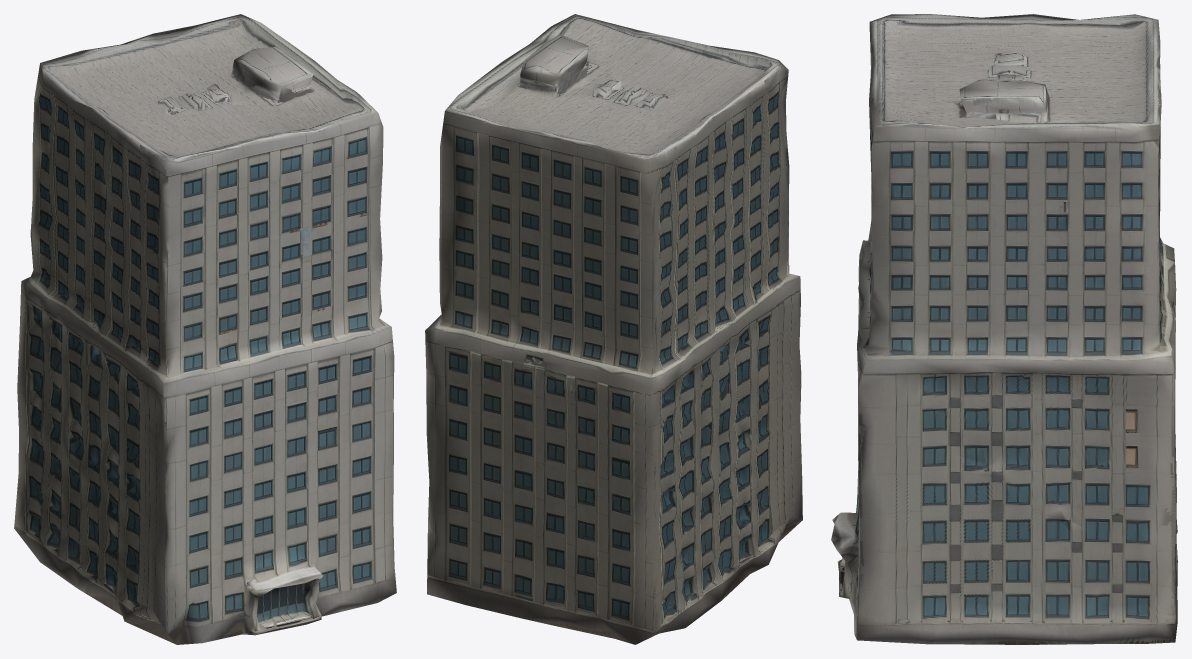
File: KR_Tower_01_Lod.glb
3 renders of one model, left to right at view 1: azimuth 30°, elevation 25°; view 2: azimuth 150°, elevation 25°; view 3: azimuth 270°, elevation 25°, orthographic. The views are drawn at different scales.
Parts seen in each view (by area): view 1: texture_mapping; view 2: texture_mapping; view 3: texture_mapping.
Boxes of the visible parts, x1=… form: texture_mapping: x1=14, y1=14, x2=396, y2=644; texture_mapping: x1=425, y1=14, x2=802, y2=644; texture_mapping: x1=831, y1=14, x2=1177, y2=644.
Bounding box in the file's own units: 0.4992 × 1.01 × 0.596.
1 material, 1 textured.
